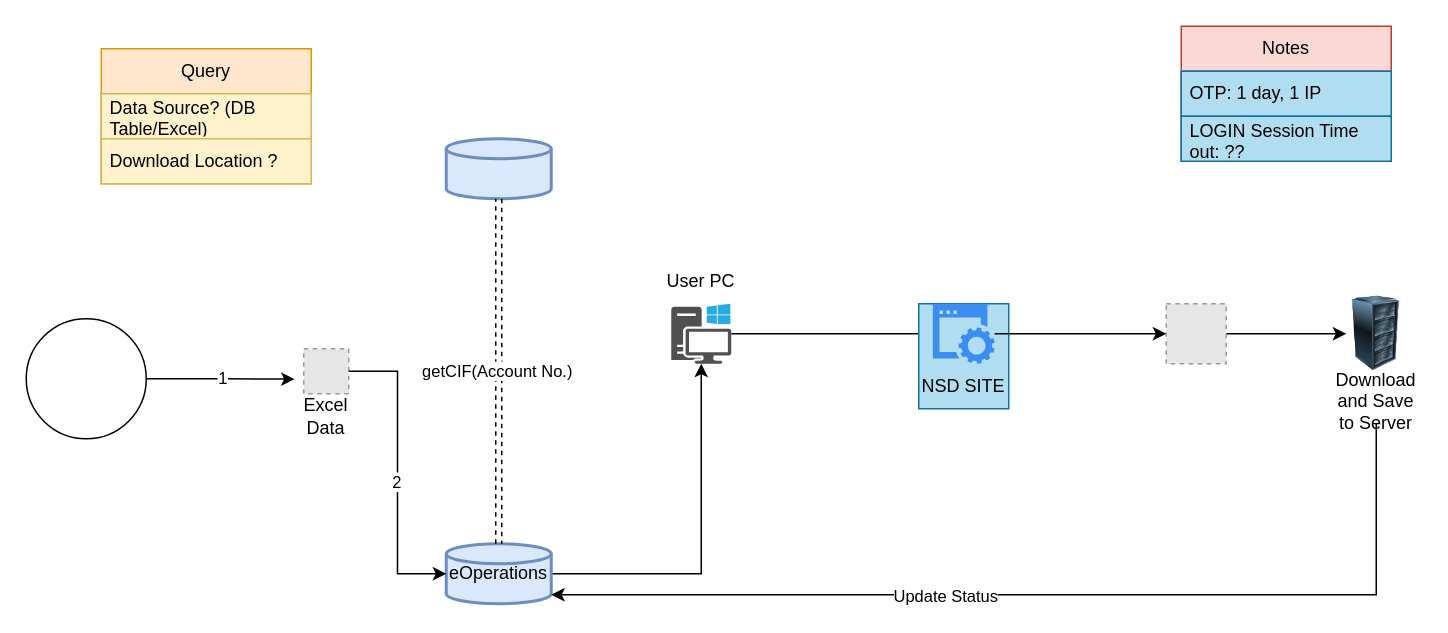
This 1448x633 diagram has some shape labels left out. Grey dashed boxes stand in for pictures. Here are the shapes that lost their labels. From the top down, the centre of each, then its label:
At point (498, 168): "Sham Da Finacle Query".
At point (85, 378): "Start".
